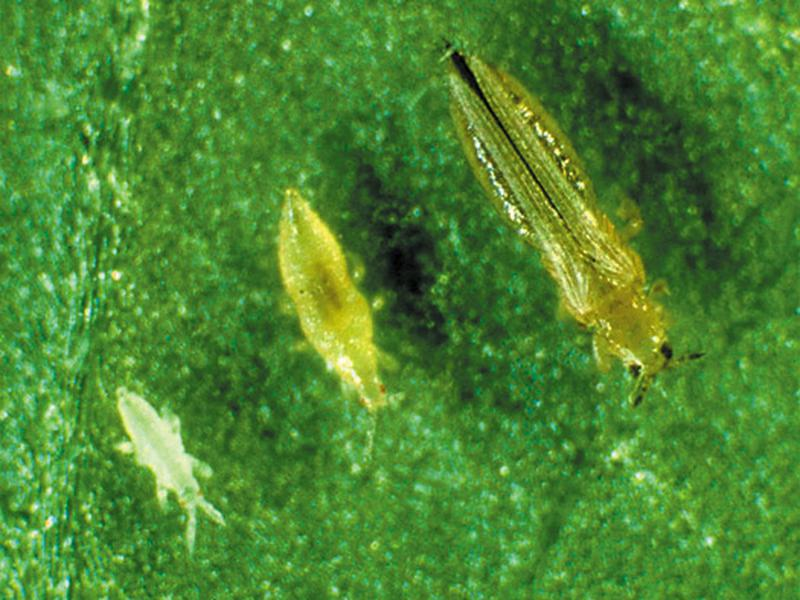Thrips: (417, 25, 695, 422), (255, 172, 413, 426), (90, 374, 231, 535)
